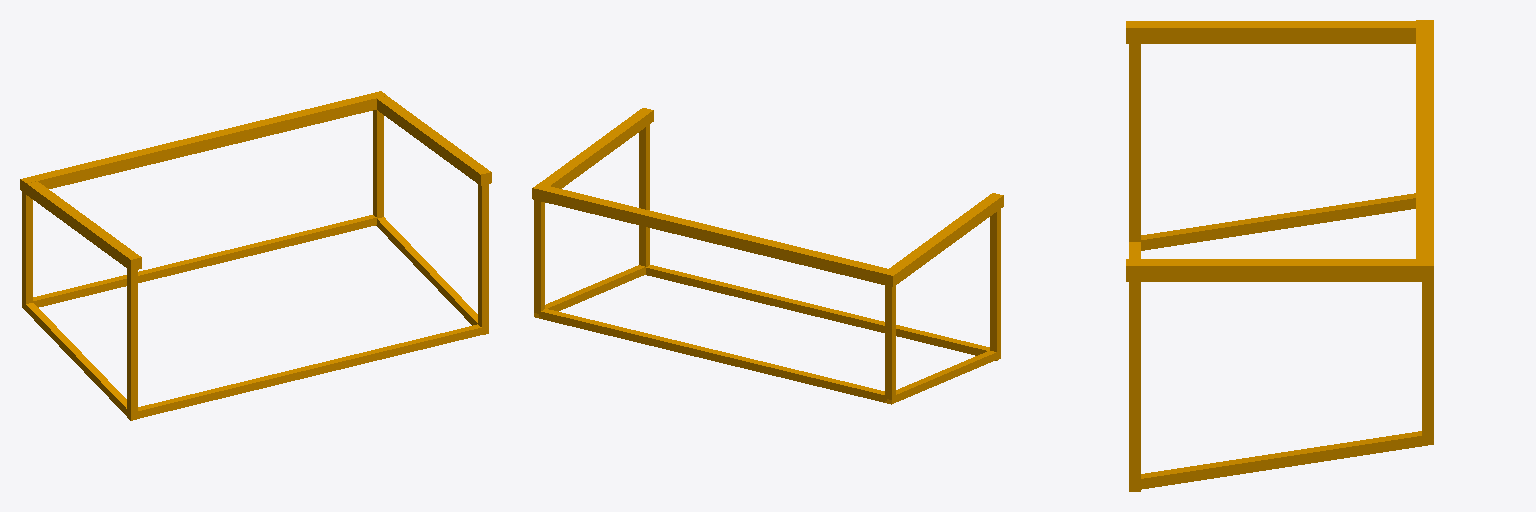
URDF robot description (goal):
<robot name="goal">
  <link name="base_link">
    <inertial>
      <origin rpy="0 0 0" xyz="0 0 0"/>
      <mass value="50.0"/>
      <inertia ixx="0.001" ixy="0" ixz="0" iyy="0.001" iyz="0" izz="0.001"/>
    </inertial>
    <visual>
      <origin rpy="0 0 0" xyz="0 0 0"/>
      <geometry>
        <mesh filename="goal.obj" scale="0.7 0.7 0.7"/>
      </geometry>
    </visual>
    <collision>
      <origin rpy="0 0 0" xyz="-3.43 0 1.85"/>
      <geometry>
        <box size="0.14 3.01 3.71"/>
      </geometry>
    </collision>

    <collision>
      <origin rpy="0 0 0" xyz="3.43 0 1.85"/>
      <geometry>
        <box size="0.14 3.01 3.71"/>
      </geometry>
    </collision>

    <collision>
      <origin rpy="0 0 0" xyz="0 1.50 1.85"/>
      <geometry>
        <box size="7.0 0.14 3.71"/>
      </geometry>
    </collision>

    <collision>
      <origin rpy="0 0 0" xyz="0 0 3.65"/>
      <geometry>
        <box size="7.0 3.01 0.14"/>
      </geometry>
    </collision>
  </link>
</robot>

--- Facts derived from the render (not from the file) ---
The picture shows the robot from 3 angles, left to right: view 1: azimuth 30°, elevation 25°; view 2: azimuth 150°, elevation 25°; view 3: azimuth 270°, elevation 25°; orthographic projection.
Model goal with 1 links and 0 joints (none), rooted at base_link, posed all joints at 0.
Links seen in each view (by area): view 1: base_link; view 2: base_link; view 3: base_link.
Boxes of the visible links, left/top/right/bottom form: base_link: left=20, top=91, right=491, bottom=420; base_link: left=532, top=108, right=1003, bottom=404; base_link: left=1126, top=20, right=1433, bottom=491.
Size in the robot's own frame: 7 by 3.71 by 3.01 metres.
1 mesh visuals loaded from 1 distinct referenced files (1 OBJ).